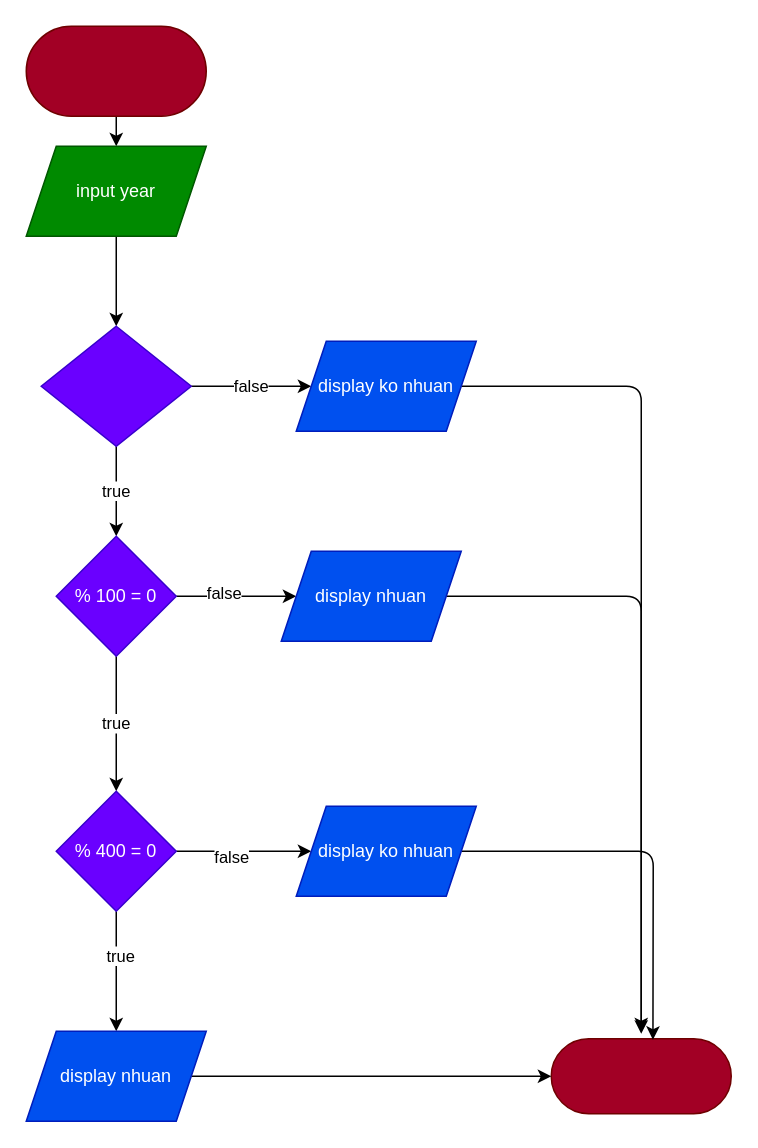
Some shapes in this 758 by 1148 pixel diagram are drawn without their labels. Each missing label, with the box of its shape:
end: (550, 1037, 731, 1114)
if year % 4 = 0: (40, 325, 191, 446)
start: (25, 25, 206, 116)
